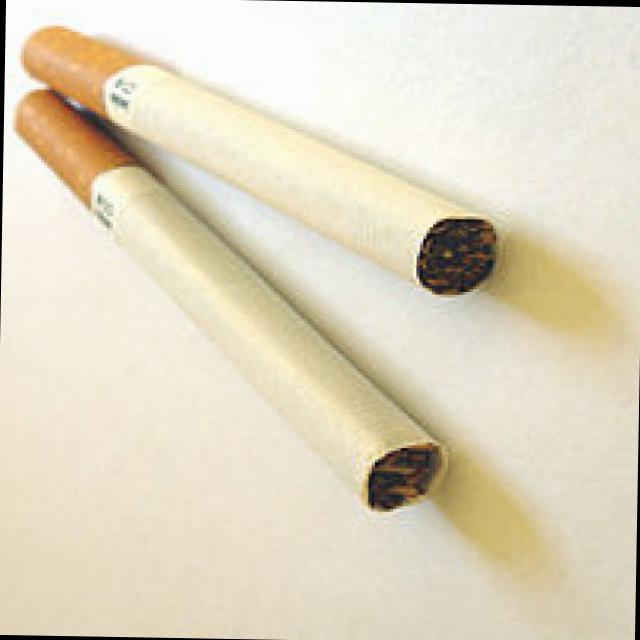cigarette: (0, 25, 506, 517)
